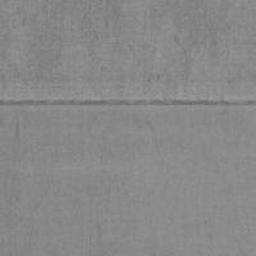Welding line: (0, 100, 240, 106)
